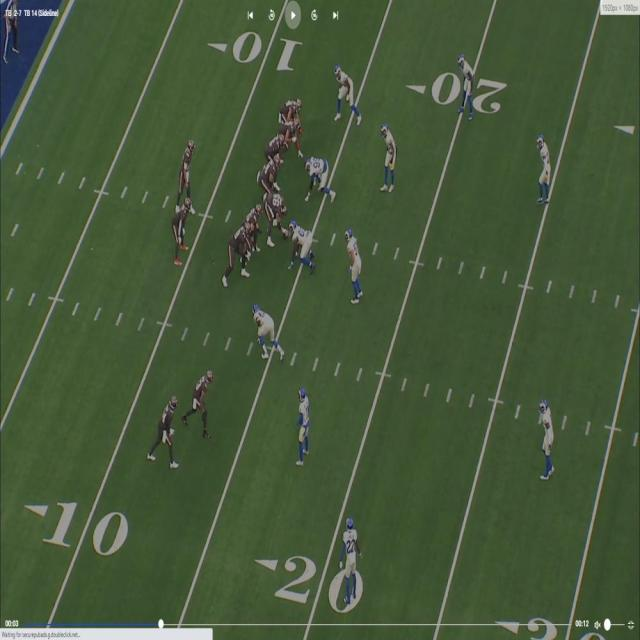center: (267, 194, 287, 242)
db: (343, 514, 362, 596), (542, 401, 556, 478), (299, 388, 312, 464), (540, 133, 554, 202), (461, 55, 477, 115)
lb: (335, 62, 358, 120), (347, 226, 363, 303), (380, 119, 394, 192)
qb: (180, 138, 193, 196)
skill: (152, 396, 178, 462), (190, 369, 216, 431), (174, 203, 191, 260), (282, 118, 304, 158), (279, 98, 304, 116)
